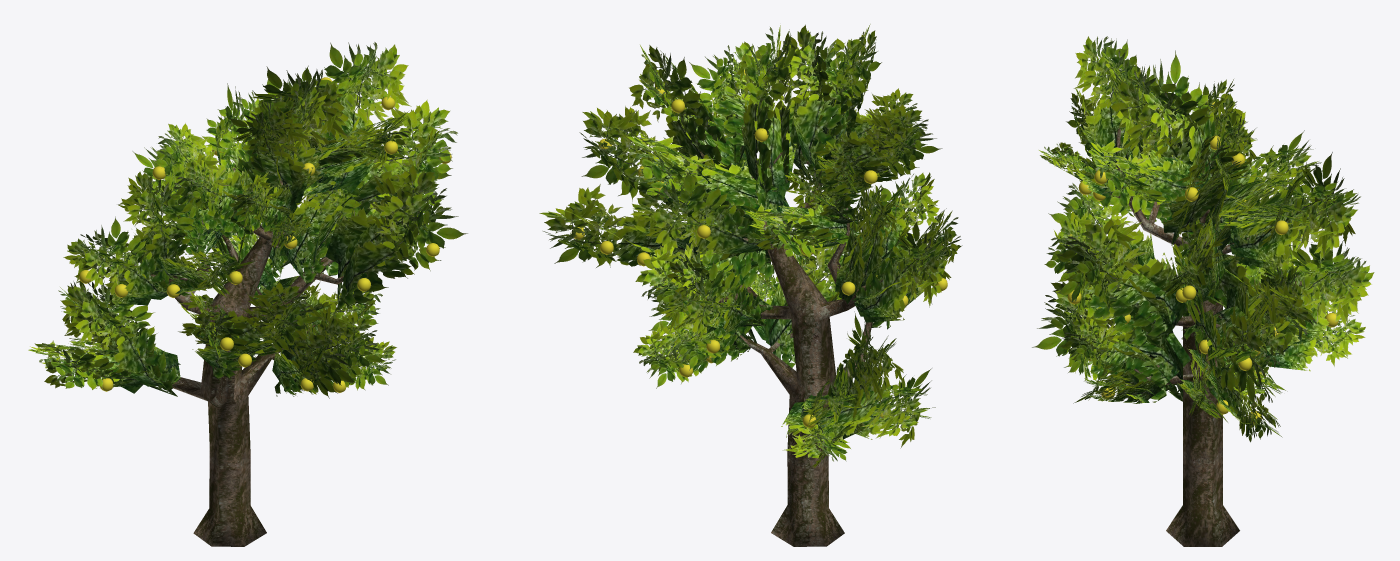
The model's file is LemonTree.fbx.
3 renders of one model, left to right at view 1: azimuth 30°, elevation 25°; view 2: azimuth 150°, elevation 25°; view 3: azimuth 270°, elevation 25°, orthographic. The views are drawn at different scales.
Visible parts, largest first — view 1: CitrusLeaves.png.035, trunk.002, lemons; view 2: CitrusLeaves.png.035, trunk.002, lemons; view 3: CitrusLeaves.png.035, trunk.002, lemons.
Part boxes in pixels (left/top/right/bottom): CitrusLeaves.png.035: left=28, top=42, right=467, bottom=398; trunk.002: left=134, top=168, right=343, bottom=546; lemons: left=79, top=77, right=451, bottom=392; CitrusLeaves.png.035: left=539, top=24, right=962, bottom=467; trunk.002: left=700, top=151, right=882, bottom=546; lemons: left=571, top=70, right=947, bottom=428; CitrusLeaves.png.035: left=1032, top=36, right=1374, bottom=442; trunk.002: left=1109, top=128, right=1302, bottom=546; lemons: left=1067, top=100, right=1338, bottom=424.
Size of the model in its own units: 564 by 644 by 426.
Materials: 3 (3 with a texture image).
